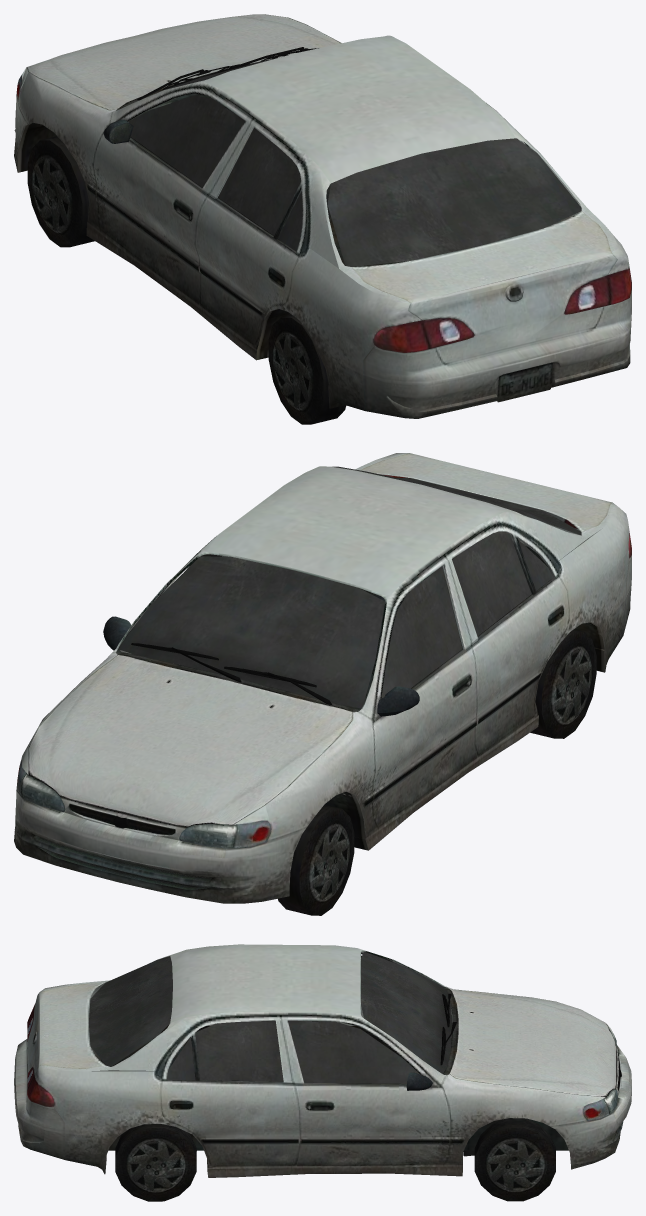
File: counter_strike_source_car.glb
The picture shows the model from 3 angles, top to bottom: view 1: azimuth 30°, elevation 25°; view 2: azimuth 150°, elevation 25°; view 3: azimuth 270°, elevation 25°; orthographic projection. The views are drawn at different scales.
Parts seen in each view (by area): view 1: Object_2, Object_4; view 2: Object_2, Object_4; view 3: Object_2, Object_4.
Boxes of the visible parts, box(x1,y1,x2,y2) form: Object_2: box(14, 14, 631, 424); Object_4: box(128, 57, 581, 266); Object_2: box(14, 453, 631, 915); Object_4: box(118, 466, 581, 708); Object_2: box(14, 944, 631, 1201); Object_4: box(89, 952, 452, 1083).
Size of what is drawn, in the model's own units: 1.08 by 0.7944 by 2.5.
Materials: 2 (2 with a texture image).
